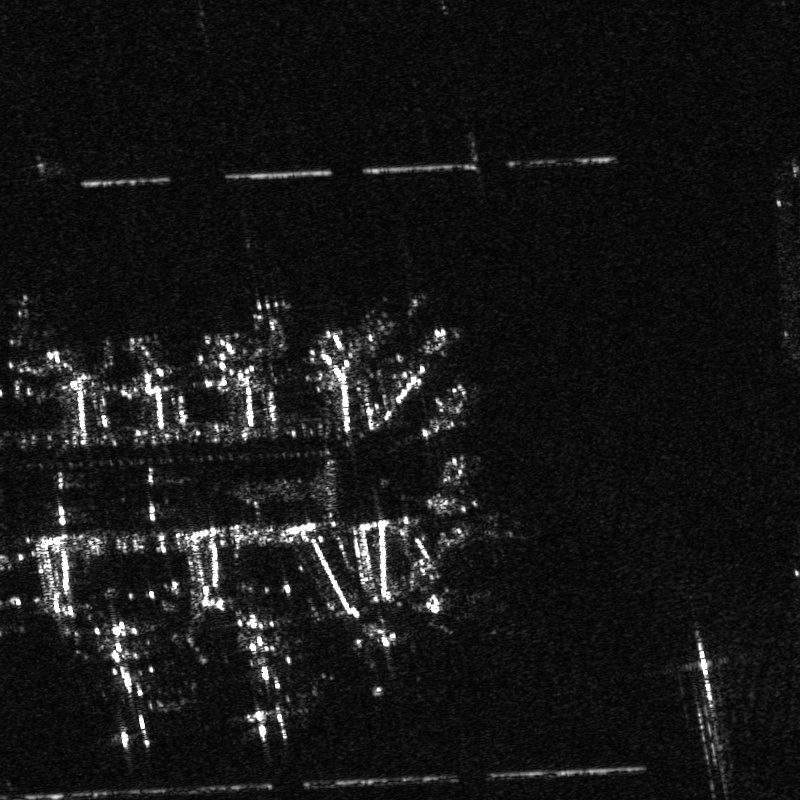A320/321: (241, 293, 297, 345)
Boeing737: (392, 586, 480, 635)
Boeing787: (58, 615, 166, 748)
other: (196, 604, 313, 737)
